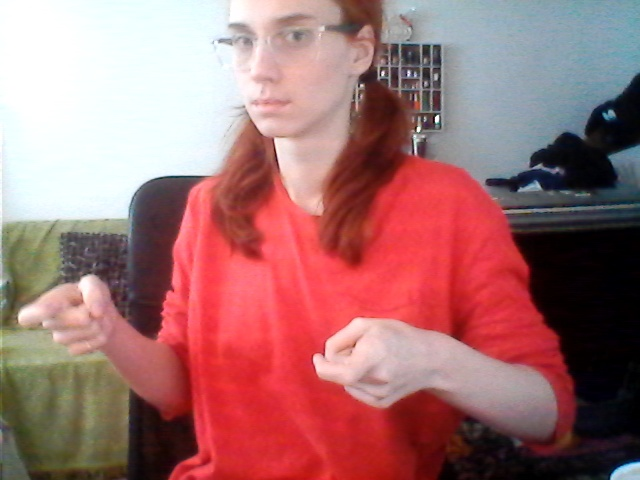davat: (17, 274, 424, 415)
